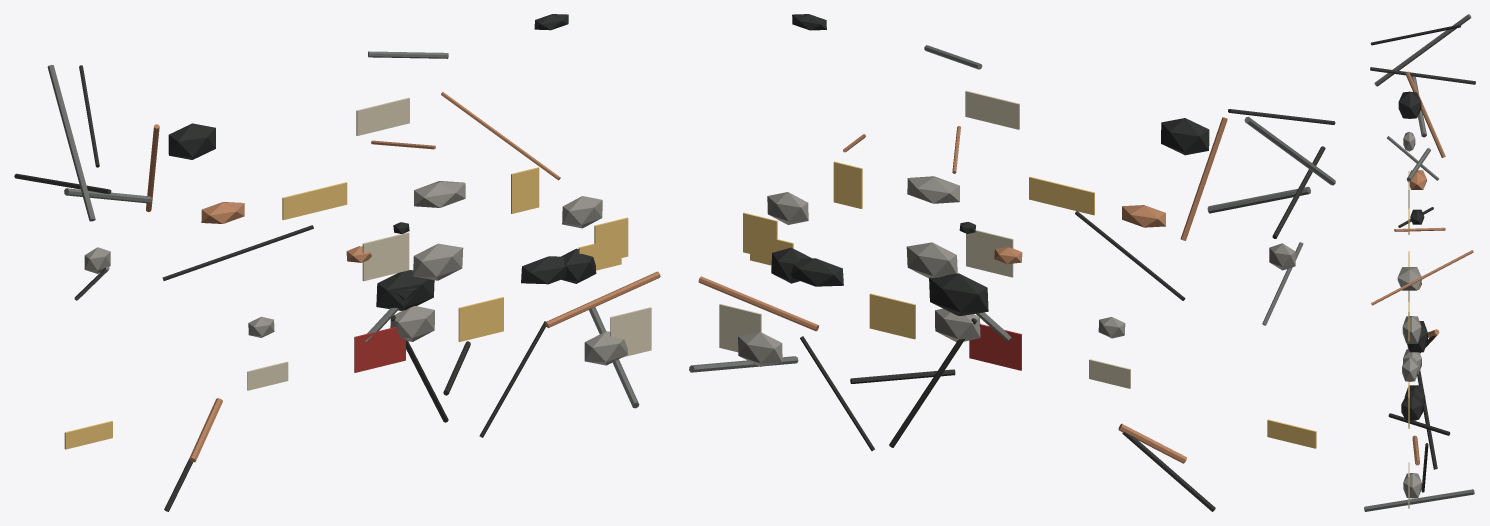
Rendered from dz_real_road_clutter_grime_set.glb.
The picture shows the model from 3 angles, left to right: view 1: azimuth 30°, elevation 25°; view 2: azimuth 150°, elevation 25°; view 3: azimuth 270°, elevation 25°; orthographic projection. The views are drawn at different scales.
Parts seen in each view (by area): view 1: torn poster scrap.009, torn poster scrap.006, wet rubble stone.009, torn poster scrap.007, torn poster scrap, torn poster scrap.002, wet rubble stone.008, torn poster scrap.008, wet rubble stone, torn poster scrap.003, torn poster scrap.004, wet rubble stone.006 (+12 smaller); view 2: wet rubble stone.009, torn poster scrap.009, torn poster scrap.007, torn poster scrap.006, torn poster scrap, torn poster scrap.008, wet rubble stone.008, wet rubble stone, torn poster scrap.002, wet rubble stone.013, torn poster scrap.004, wet rubble stone.011 (+14 smaller); view 3: broken rebar cable.007, broken rebar cable.009, wet rubble stone, wet rubble stone.001, wet rubble stone.008, wet rubble stone.012, broken rebar cable.011, wet rubble stone.013, broken rebar cable.012, broken rebar cable.002, broken rebar cable.017, wet rubble stone.014 (+14 smaller).
Boxes of the visible parts, x1,y1,x2,y2 form: torn poster scrap.009: (354, 327, 405, 372); torn poster scrap.006: (362, 232, 409, 281); wet rubble stone.009: (376, 270, 434, 310); torn poster scrap.007: (458, 297, 503, 341); torn poster scrap: (282, 182, 347, 220); torn poster scrap.002: (610, 307, 651, 357); wet rubble stone.008: (413, 243, 463, 280); torn poster scrap.008: (356, 97, 409, 135); wet rubble stone: (168, 123, 215, 159); torn poster scrap.003: (594, 217, 628, 263); torn poster scrap.004: (511, 167, 539, 213); wet rubble stone.006: (390, 306, 434, 341); wet rubble stone.009: (929, 273, 988, 315); torn poster scrap.009: (969, 324, 1021, 370); torn poster scrap.007: (869, 293, 915, 339); torn poster scrap.006: (966, 230, 1013, 277); torn poster scrap: (1029, 176, 1094, 215); torn poster scrap.008: (965, 90, 1019, 129); wet rubble stone.008: (906, 242, 957, 278); wet rubble stone: (1161, 118, 1209, 155); torn poster scrap.002: (719, 304, 761, 352); wet rubble stone.013: (738, 332, 782, 366); torn poster scrap.004: (833, 161, 862, 208); wet rubble stone.011: (790, 258, 843, 286); broken rebar cable.007: (1364, 489, 1474, 511); broken rebar cable.009: (1374, 14, 1471, 86); wet rubble stone: (1398, 91, 1421, 118); wet rubble stone.001: (1401, 395, 1423, 421); wet rubble stone.008: (1402, 316, 1421, 343); wet rubble stone.012: (1397, 267, 1421, 290); broken rebar cable.011: (1370, 67, 1475, 84); wet rubble stone.013: (1403, 473, 1421, 498); broken rebar cable.012: (1405, 71, 1445, 157); broken rebar cable.002: (1371, 250, 1473, 305); broken rebar cable.017: (1417, 370, 1437, 469); wet rubble stone.014: (1402, 357, 1418, 381).
Bounding box in the file's own units: 7.06 × 4.99 × 1.52.
